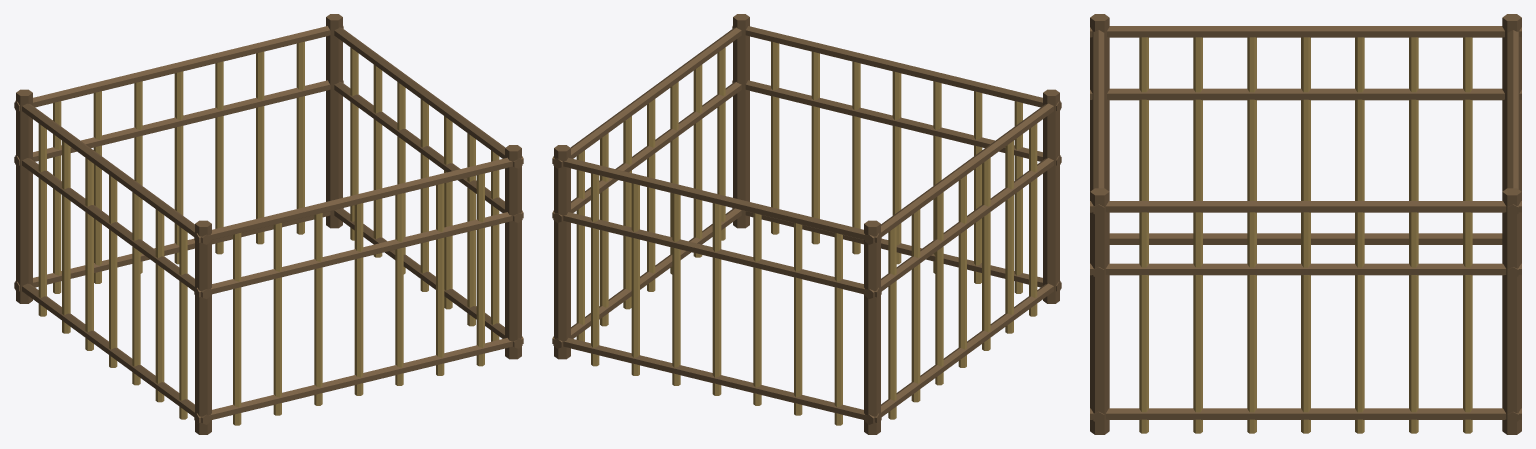
File: jail.glb
The picture shows the model from 3 angles, left to right: view 1: azimuth 30°, elevation 25°; view 2: azimuth 150°, elevation 25°; view 3: azimuth 270°, elevation 25°; orthographic projection. The views are drawn at different scales.
Visible parts, largest first — view 1: jail; view 2: jail; view 3: jail.
Part boxes in pixels (x1=…): jail: x1=14, y1=14, x2=523, y2=434; jail: x1=552, y1=14, x2=1061, y2=434; jail: x1=1090, y1=14, x2=1521, y2=434.
Size of the model in its own units: 4 by 2.45 by 4.
